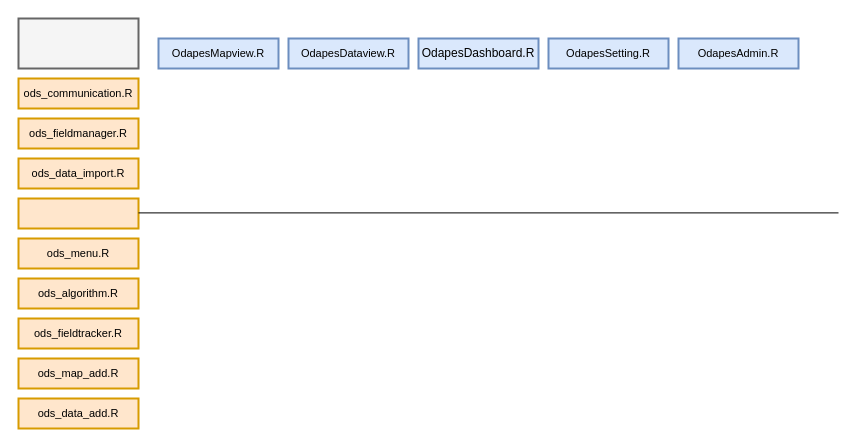
The diagram is 857 pixels wide and 446 high, and some of its shapes have lost their labels. Here are the shapes that lost their labels. From the top down, the centre of each, then its label:
At [78,43]: "app.R".
At [78,213]: "ods_data_store.R".
